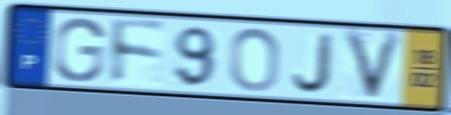9: (171, 24, 223, 89)
F: (109, 15, 170, 88)
G: (51, 16, 107, 84)
J: (290, 31, 337, 96)
O: (228, 25, 283, 94)
V: (341, 27, 409, 106)
